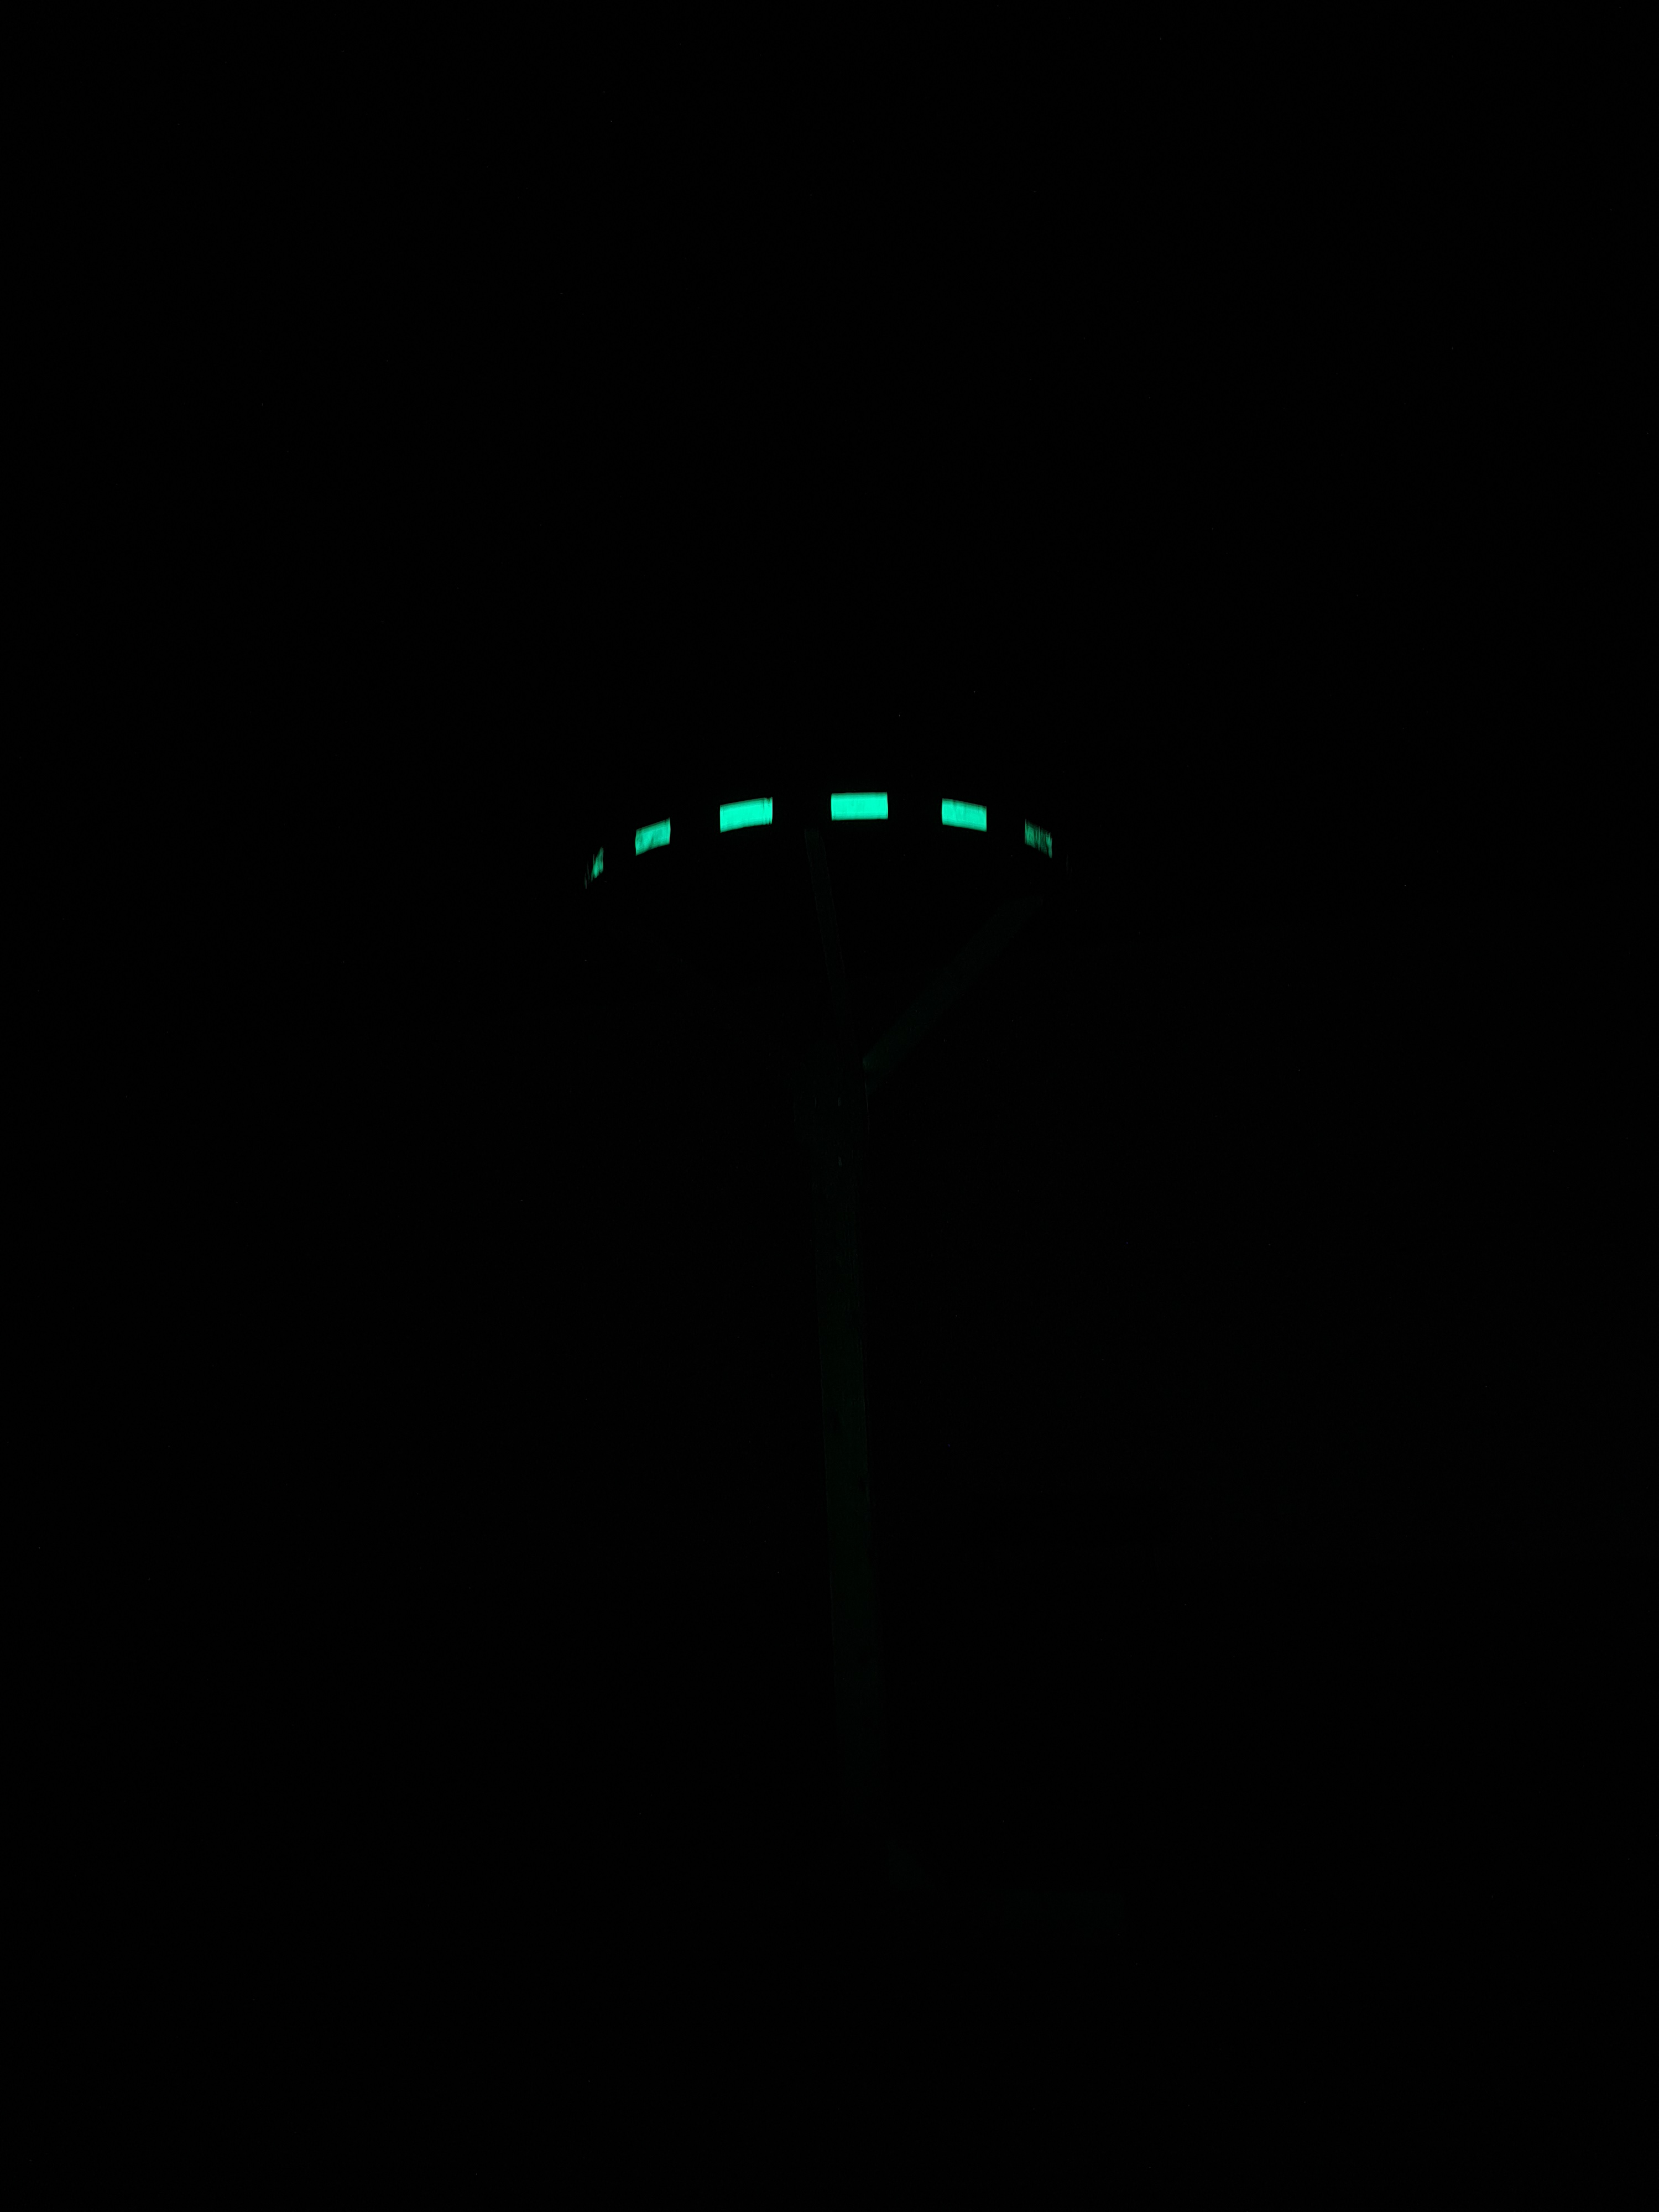hoop: (582, 786, 1058, 895)
